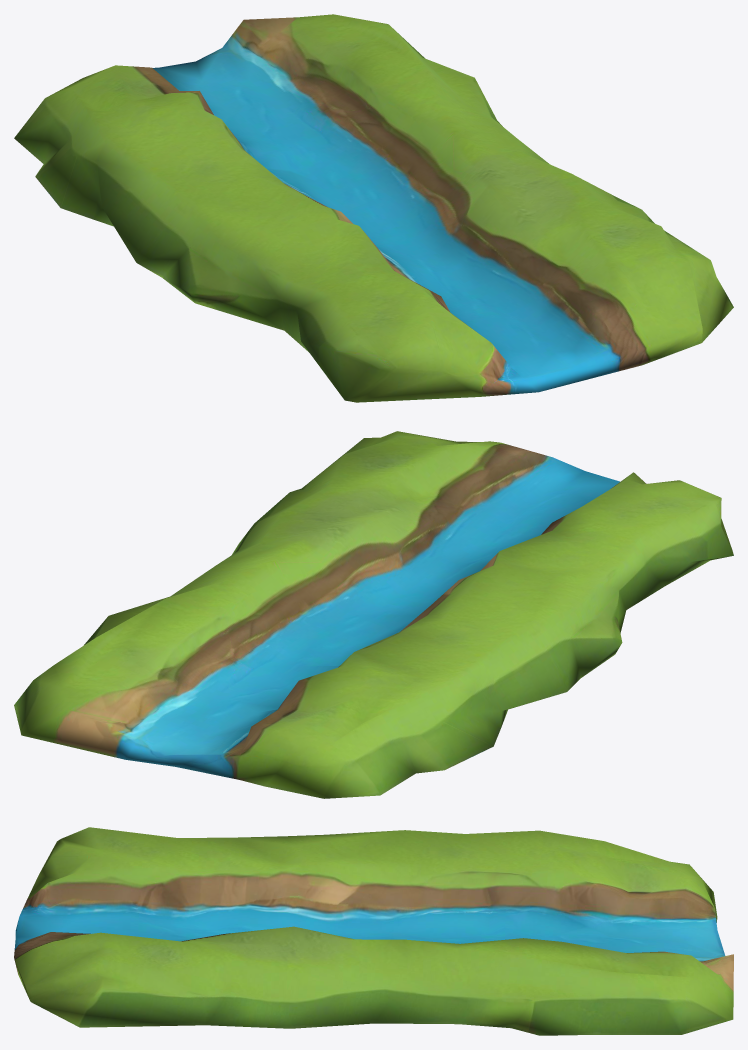
File: River_Valley_0612214706_texture.fbx
The picture shows the model from 3 angles, top to bottom: view 1: azimuth 30°, elevation 25°; view 2: azimuth 150°, elevation 25°; view 3: azimuth 270°, elevation 25°; orthographic projection. The views are drawn at different scales.
Parts seen in each view (by area): view 1: Mesh1; view 2: Mesh1; view 3: Mesh1.
Part boxes in pixels (x1,y1,x2,y2): Mesh1: (14,14,733,402); Mesh1: (14,431,733,798); Mesh1: (14,827,733,1035).
Size of the model in its own units: 117 by 16.15 by 200.
Materials: 1 (1 with a texture image).
